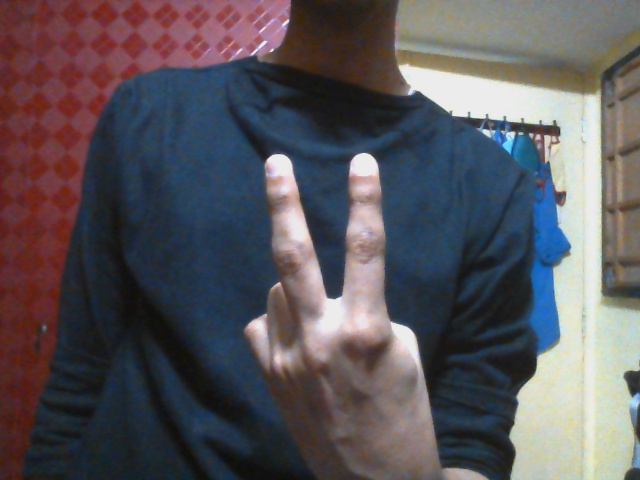V: (244, 153, 439, 448)
